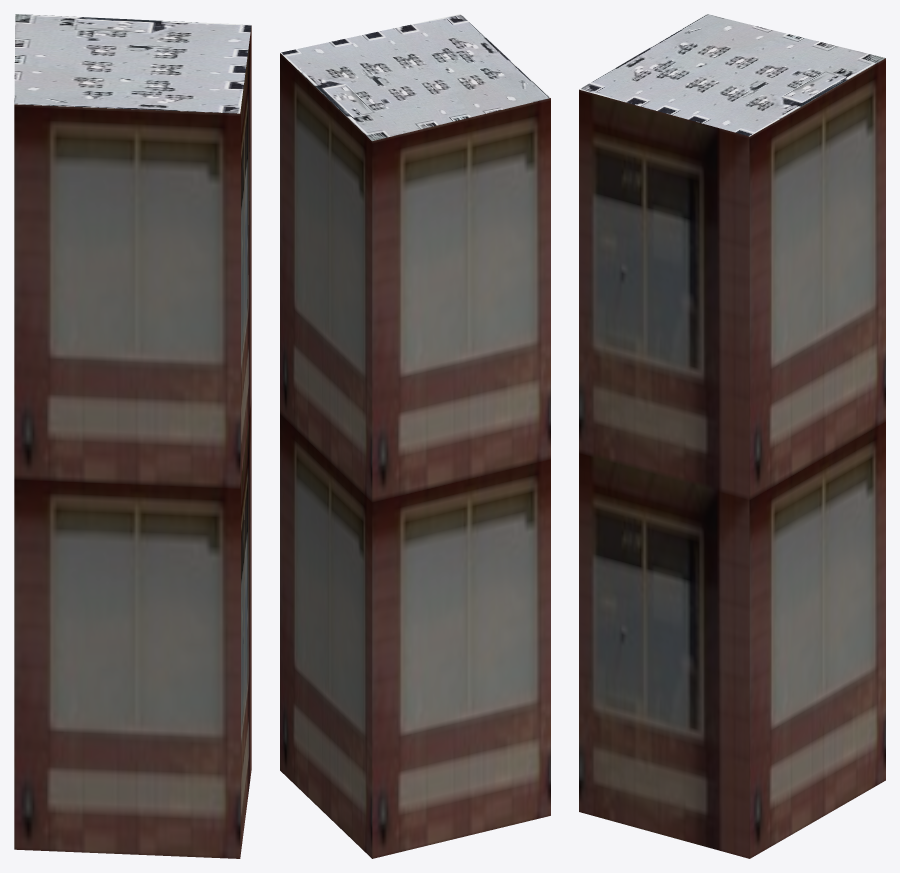
The model's file is ResTex__2460.fbx.
3 renders of one model, left to right at view 1: azimuth 30°, elevation 25°; view 2: azimuth 150°, elevation 25°; view 3: azimuth 270°, elevation 25°, orthographic. The views are drawn at different scales.
Visible parts, largest first — view 1: CityEngineMaterial_13_m, CityEngineMaterial_m; view 2: CityEngineMaterial_13_m, CityEngineMaterial_m; view 3: CityEngineMaterial_13_m, CityEngineMaterial_m.
Part boxes in pixels (x1,y1,x2,y2): CityEngineMaterial_13_m: (14, 25, 251, 858); CityEngineMaterial_m: (14, 14, 251, 113); CityEngineMaterial_13_m: (280, 53, 550, 858); CityEngineMaterial_m: (280, 14, 550, 140); CityEngineMaterial_13_m: (579, 58, 885, 858); CityEngineMaterial_m: (579, 14, 885, 136).
Bounding box in the file's own units: 2.18 × 6 × 2.31.
2 materials, 2 textured.
